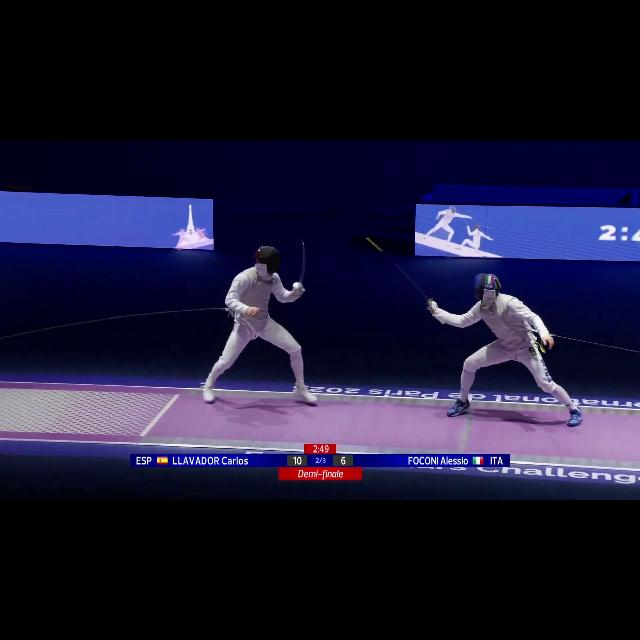blade: (358, 233, 438, 311), (290, 239, 308, 295)
